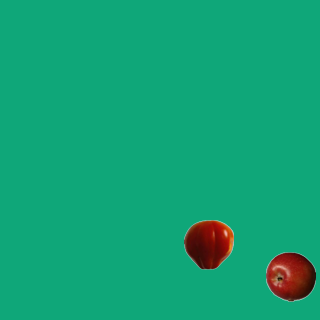Apple Braeburn: (265, 251, 315, 301)
Tomato 1: (183, 219, 233, 269)
